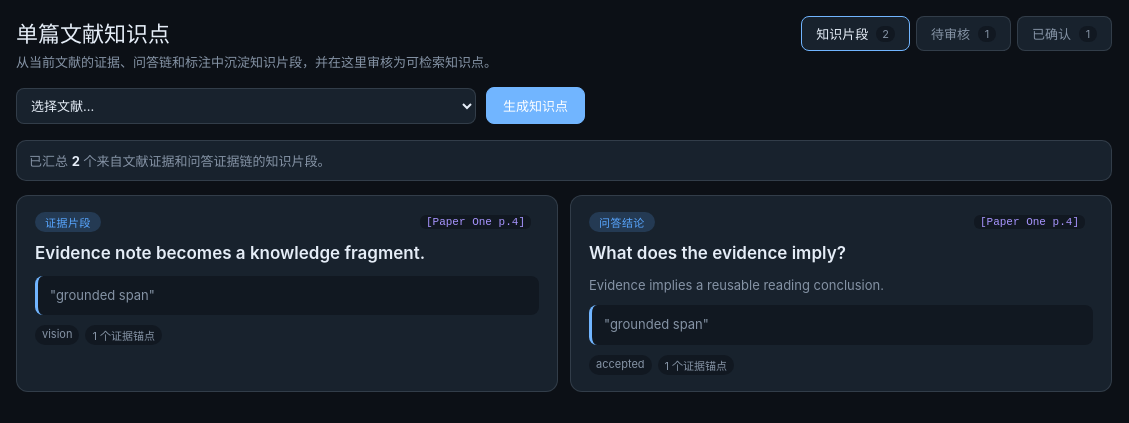
it: Knowledge review › generates draft candidates from a read paper
The image size is (1129, 423).
Expected: the text "Evidence note becomes a knowledge fragment." is shown, [35,243,425,263]
Click the button "生成知识点". click: [536, 106]
box: [486,87,585,124]
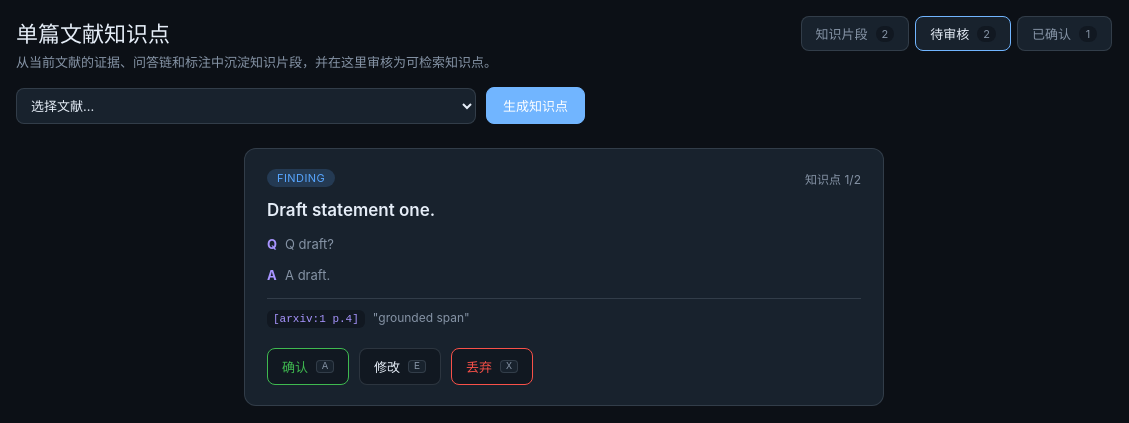
Now the button "待审核 2" is shown, box [915,16,1011,51]
